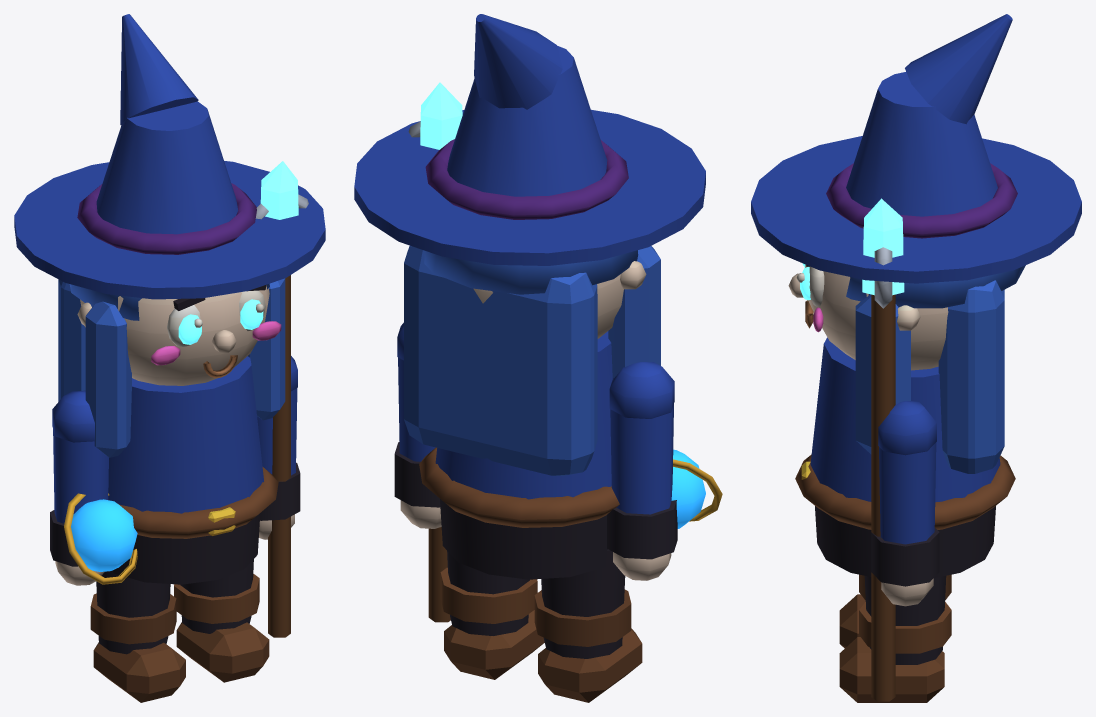
Rendered from hero_morgane.glb.
3 renders of one model, left to right at view 1: azimuth 30°, elevation 25°; view 2: azimuth 150°, elevation 25°; view 3: azimuth 270°, elevation 25°, orthographic. The views are drawn at different scales.
Parts seen in each view (by area): view 1: body_t0_palette, legl_t0_palette, legr_t0_palette, armr_t0_palette, arml_t0_palette, arml_t0_water, armr_t0_crystal_teal, body_t0_crystal; view 2: body_t0_palette, arml_t0_palette, legl_t0_palette, legr_t0_palette, armr_t0_palette, armr_t0_crystal_teal, arml_t0_water; view 3: body_t0_palette, armr_t0_palette, legr_t0_palette, armr_t0_crystal_teal, legl_t0_palette.
Part boxes in pixels (x1,y1,x2,y2): body_t0_palette: (14, 14, 325, 584); legl_t0_palette: (90, 570, 185, 702); legr_t0_palette: (174, 559, 269, 682); armr_t0_palette: (255, 194, 308, 637); arml_t0_palette: (50, 390, 137, 585); arml_t0_water: (71, 499, 137, 571); armr_t0_crystal_teal: (260, 161, 298, 219); body_t0_crystal: (178, 299, 263, 344); body_t0_palette: (354, 14, 705, 579); arml_t0_palette: (607, 362, 722, 580); legl_t0_palette: (534, 549, 642, 702); legr_t0_palette: (440, 551, 544, 679); armr_t0_palette: (394, 121, 450, 622); armr_t0_crystal_teal: (420, 82, 462, 149); arml_t0_water: (671, 449, 705, 528); body_t0_palette: (751, 14, 1081, 577); armr_t0_palette: (871, 247, 939, 701); legr_t0_palette: (839, 576, 951, 702); armr_t0_crystal_teal: (862, 198, 904, 295); legl_t0_palette: (839, 574, 951, 648).
Bounding box in the file's own units: 0.3 × 0.6592 × 0.3.
